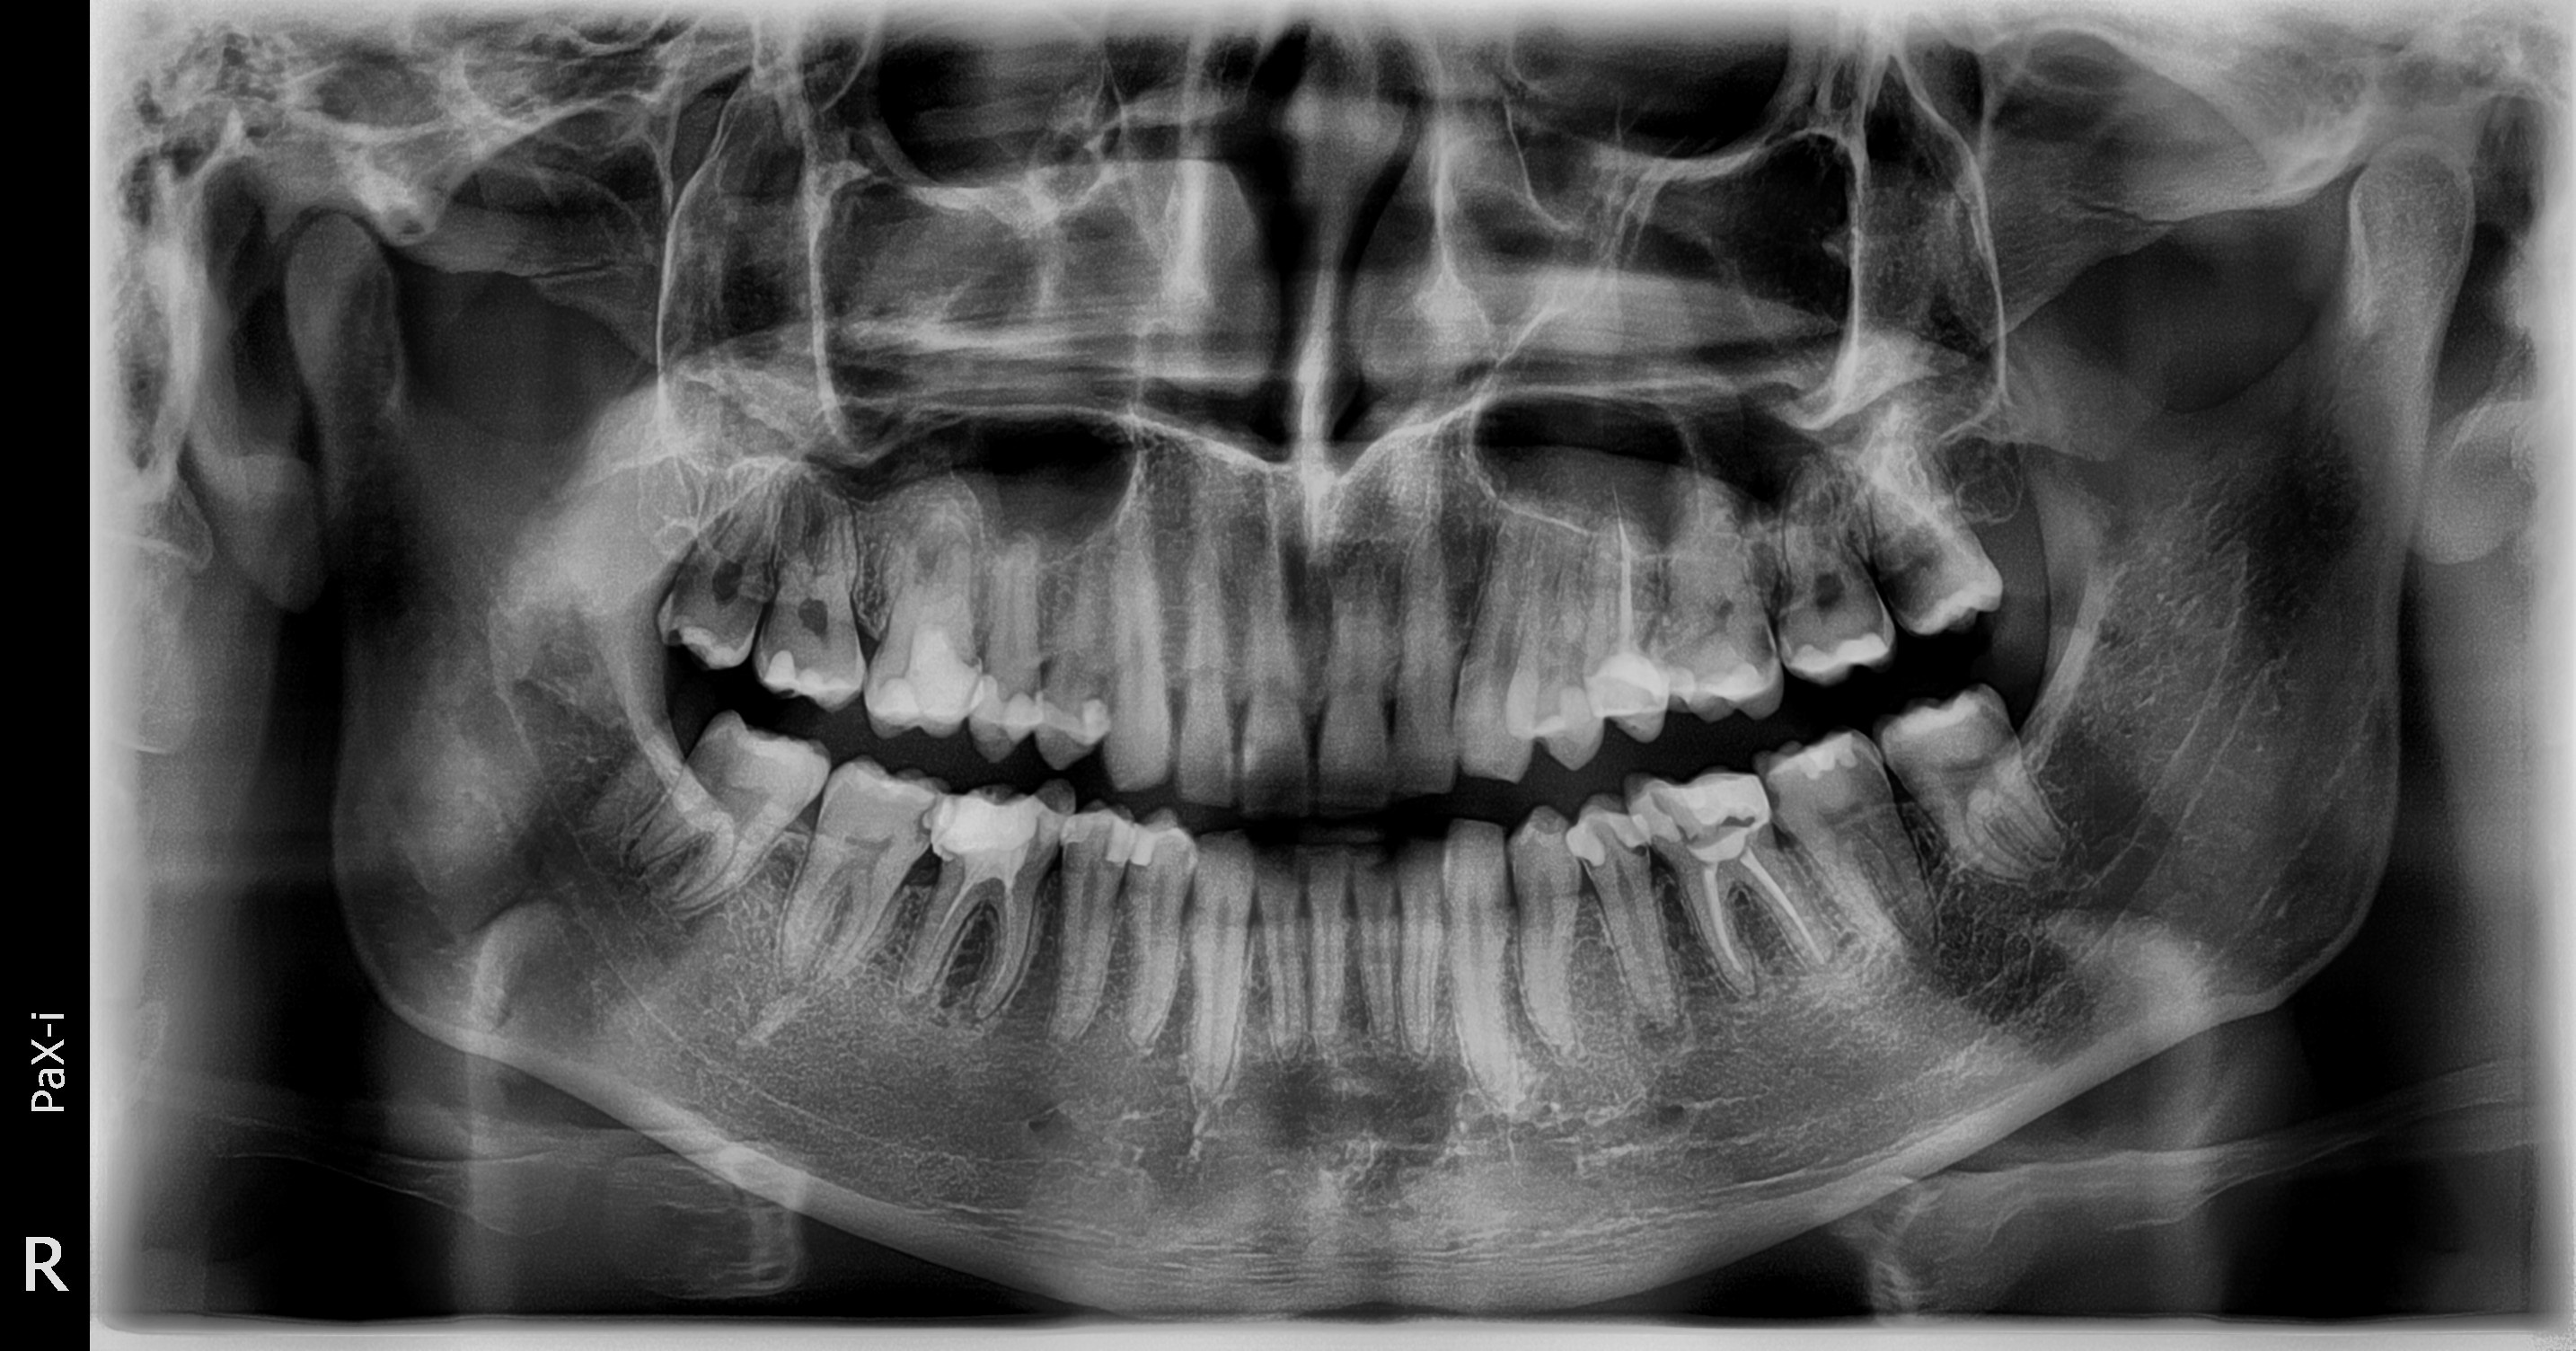API: (1613, 995, 1702, 1053), (888, 974, 927, 1056), (992, 992, 1029, 1048)
CAR: (1068, 698, 1118, 750), (1981, 704, 2026, 750), (1711, 806, 1751, 842), (1126, 867, 1153, 906), (910, 790, 930, 836), (1610, 842, 1653, 860), (1095, 860, 1111, 900)
END: (1680, 857, 1755, 998), (1755, 867, 1833, 980), (922, 886, 949, 964), (988, 872, 1010, 959), (1613, 506, 1625, 634)
OBT: (888, 629, 957, 733), (942, 775, 1026, 848), (1668, 649, 1763, 704), (765, 646, 830, 710), (1794, 733, 1859, 796), (1787, 641, 1886, 680), (986, 668, 1032, 748), (1649, 772, 1763, 802), (1605, 653, 1641, 726), (1579, 799, 1641, 826), (1075, 833, 1133, 852), (1121, 814, 1160, 842)
